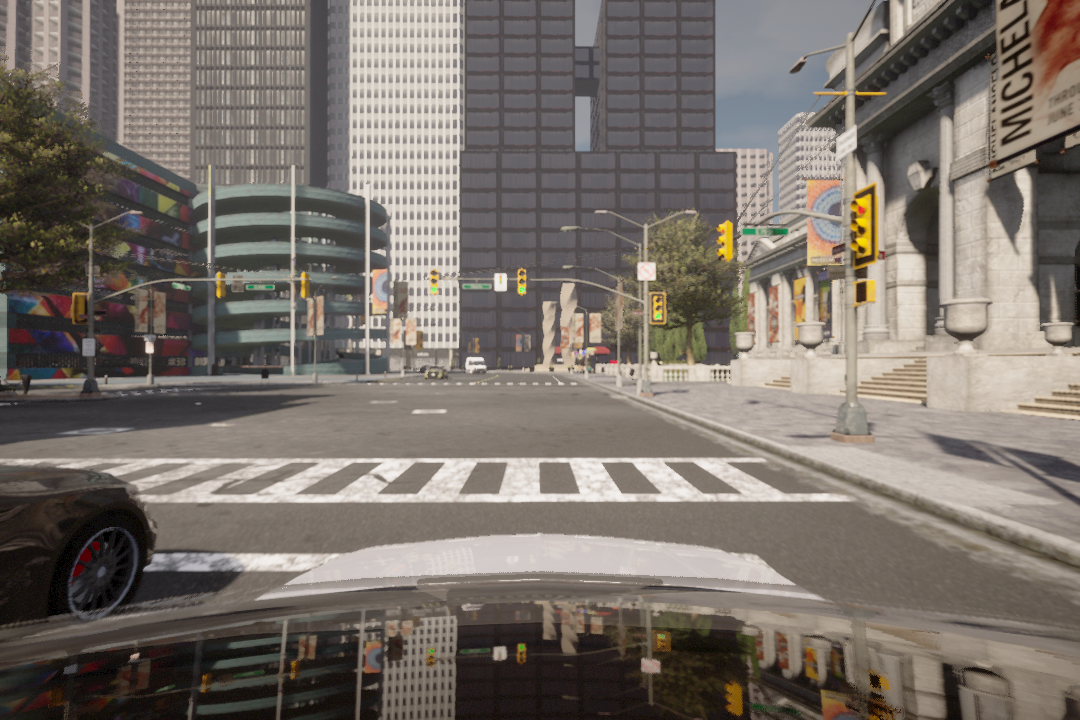TrafficLight: (847, 184, 877, 265), (715, 220, 734, 267), (650, 289, 669, 327), (515, 266, 529, 298), (428, 270, 438, 297)
TrafficSign: (635, 261, 660, 280)
walkside: (7, 457, 834, 510)
